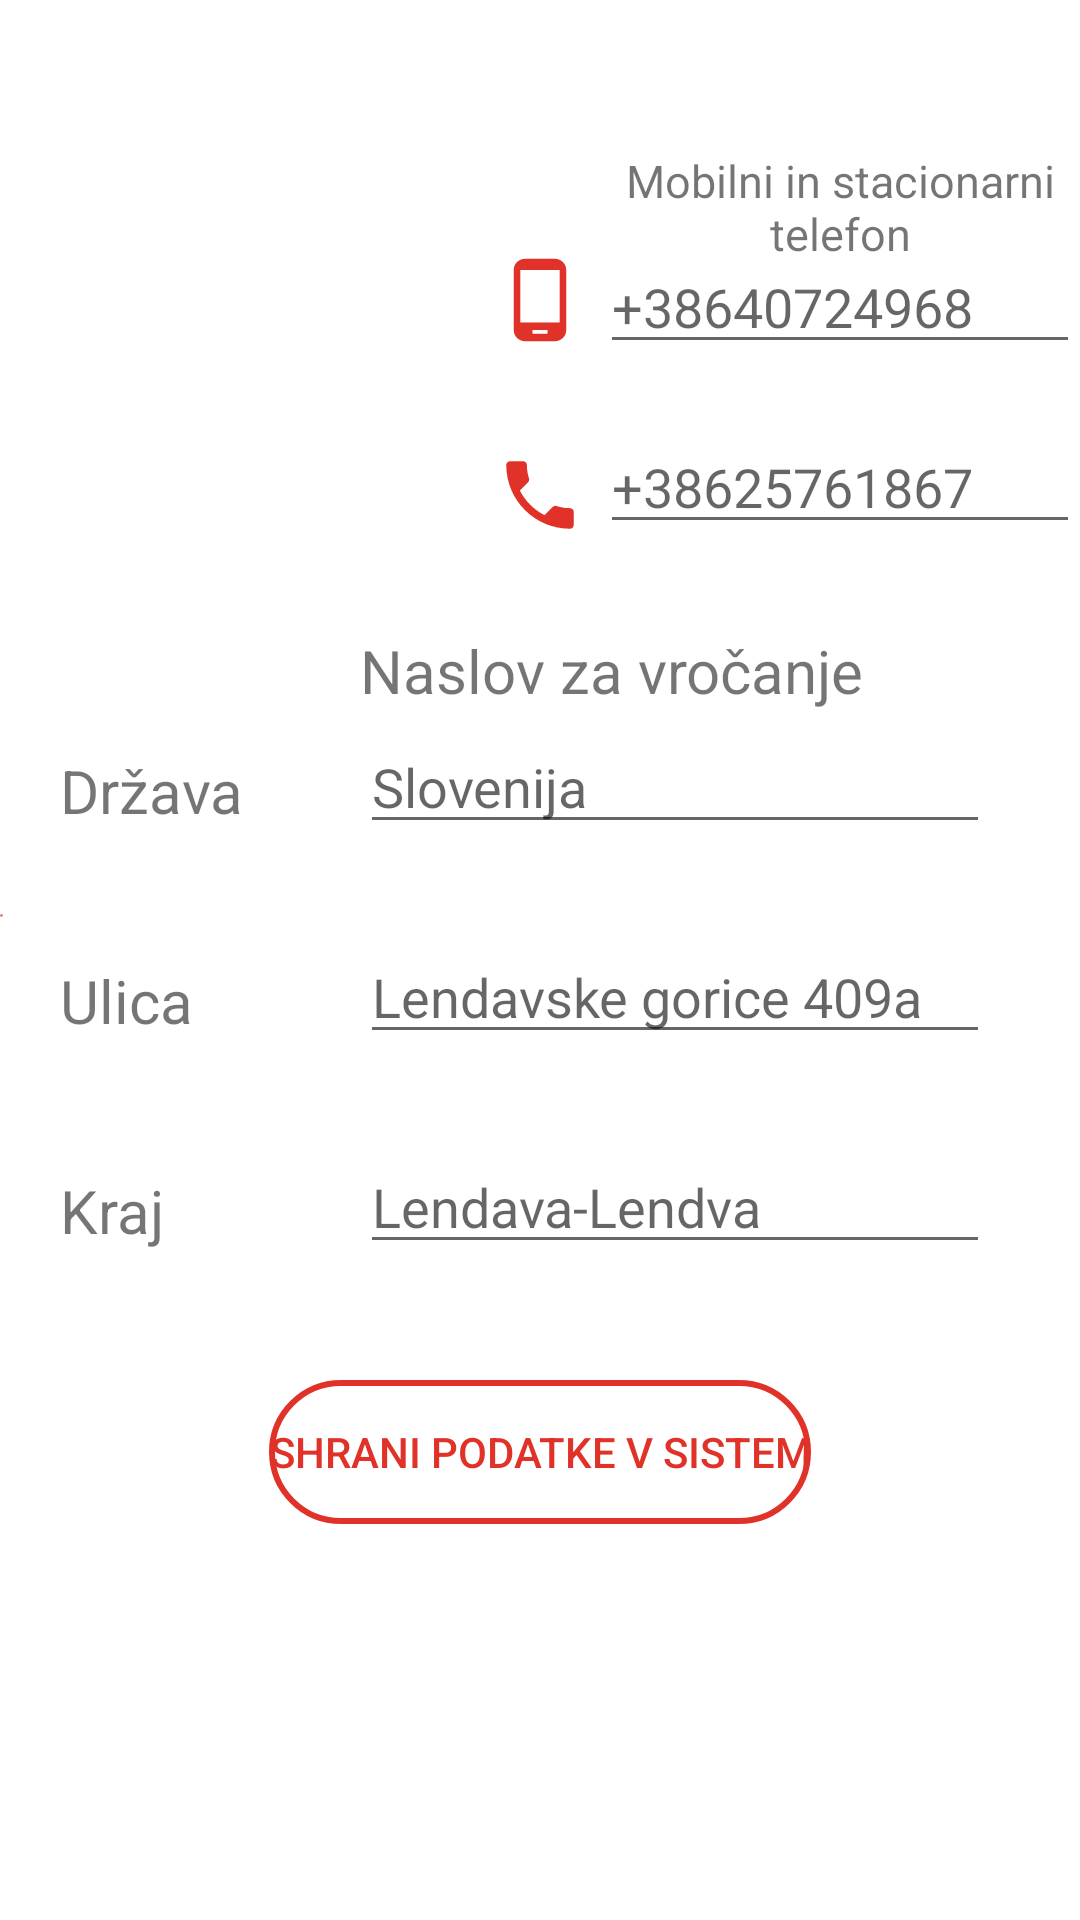

Icon click points for this 1080 × 1920 phone screenshot, format (x=x, y=y):
phone: (x=540, y=495)
phone android: (x=540, y=300)
